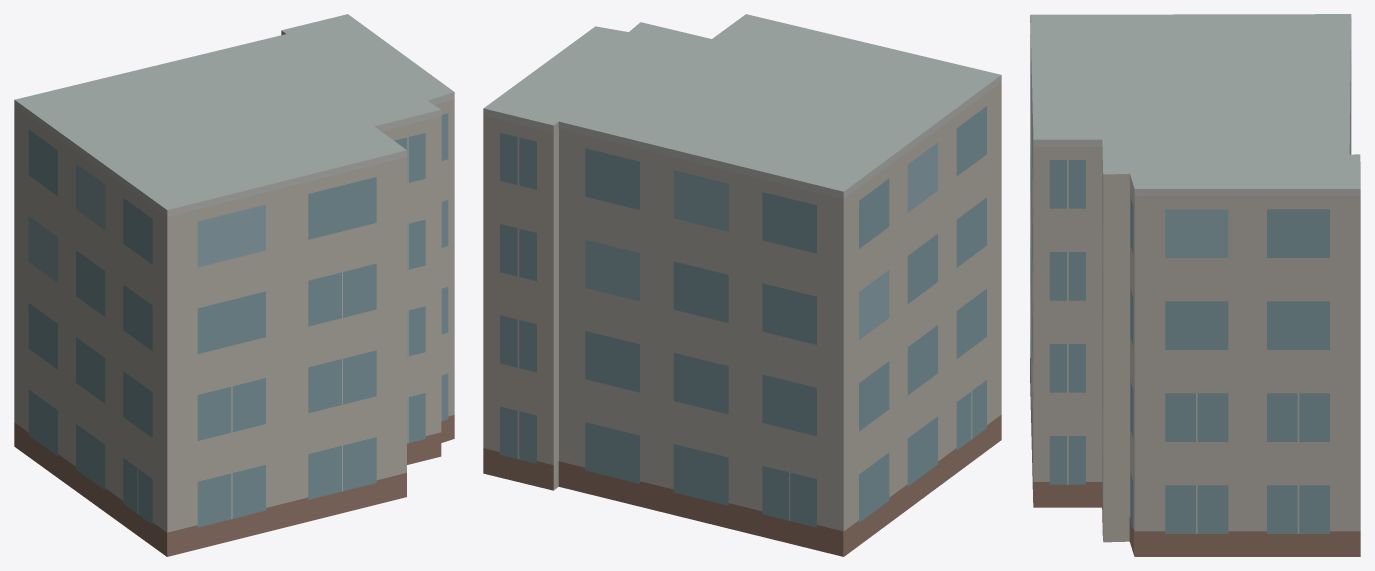
File: survey-upis-32771306.glb
The picture shows the model from 3 angles, left to right: view 1: azimuth 30°, elevation 25°; view 2: azimuth 150°, elevation 25°; view 3: azimuth 270°, elevation 25°; orthographic projection. The views are drawn at different scales.
Parts seen in each view (by area): view 1: survey-upis-32771306.tmp; view 2: survey-upis-32771306.tmp; view 3: survey-upis-32771306.tmp.
Part boxes in pixels (x1=…): survey-upis-32771306.tmp: x1=14, y1=14, x2=454, y2=556; survey-upis-32771306.tmp: x1=483, y1=14, x2=1001, y2=556; survey-upis-32771306.tmp: x1=1030, y1=14, x2=1360, y2=556.
Bounding box in the file's own units: 12.76 × 12.5 × 10.18.
